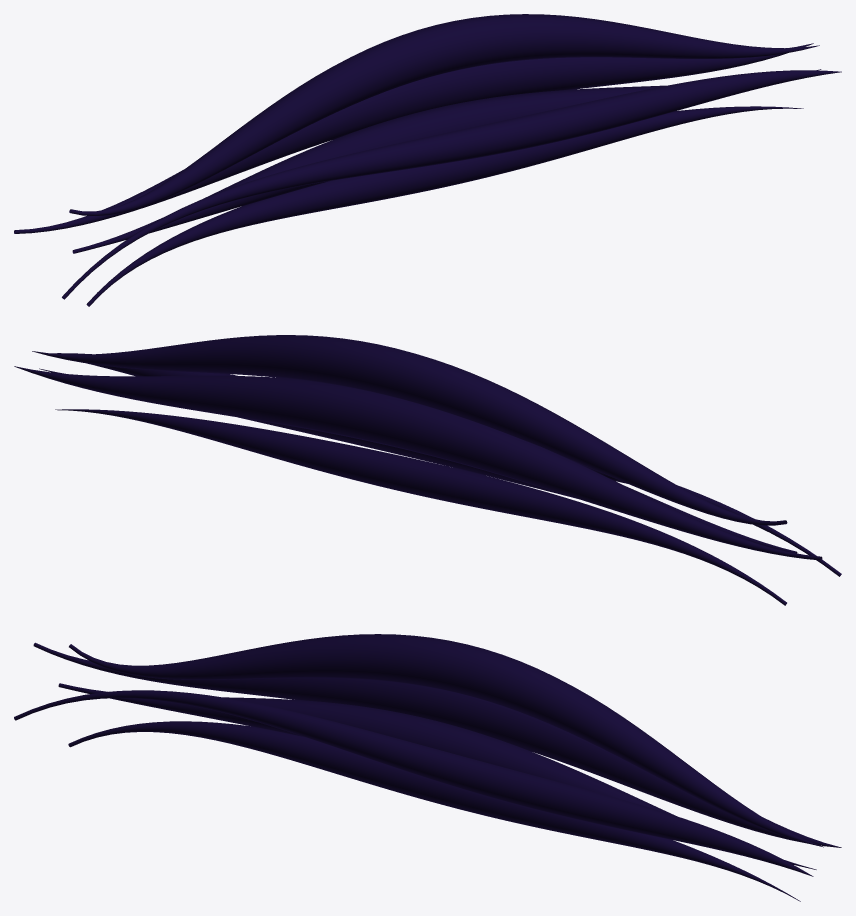
File: Pelo de Gato Preto.fbx
3 renders of one model, top to bottom at view 1: azimuth 30°, elevation 25°; view 2: azimuth 150°, elevation 25°; view 3: azimuth 330°, elevation 25°, orthographic.
Parts seen in each view (by area): view 1: Pelo de Gato; view 2: Pelo de Gato; view 3: Pelo de Gato.
Part boxes in pixels (x1,y1,x2,y2): Pelo de Gato: [14, 14, 841, 306]; Pelo de Gato: [14, 335, 841, 605]; Pelo de Gato: [14, 634, 841, 901].
Size of the model in its own units: 226 by 47.44 by 25.5.
